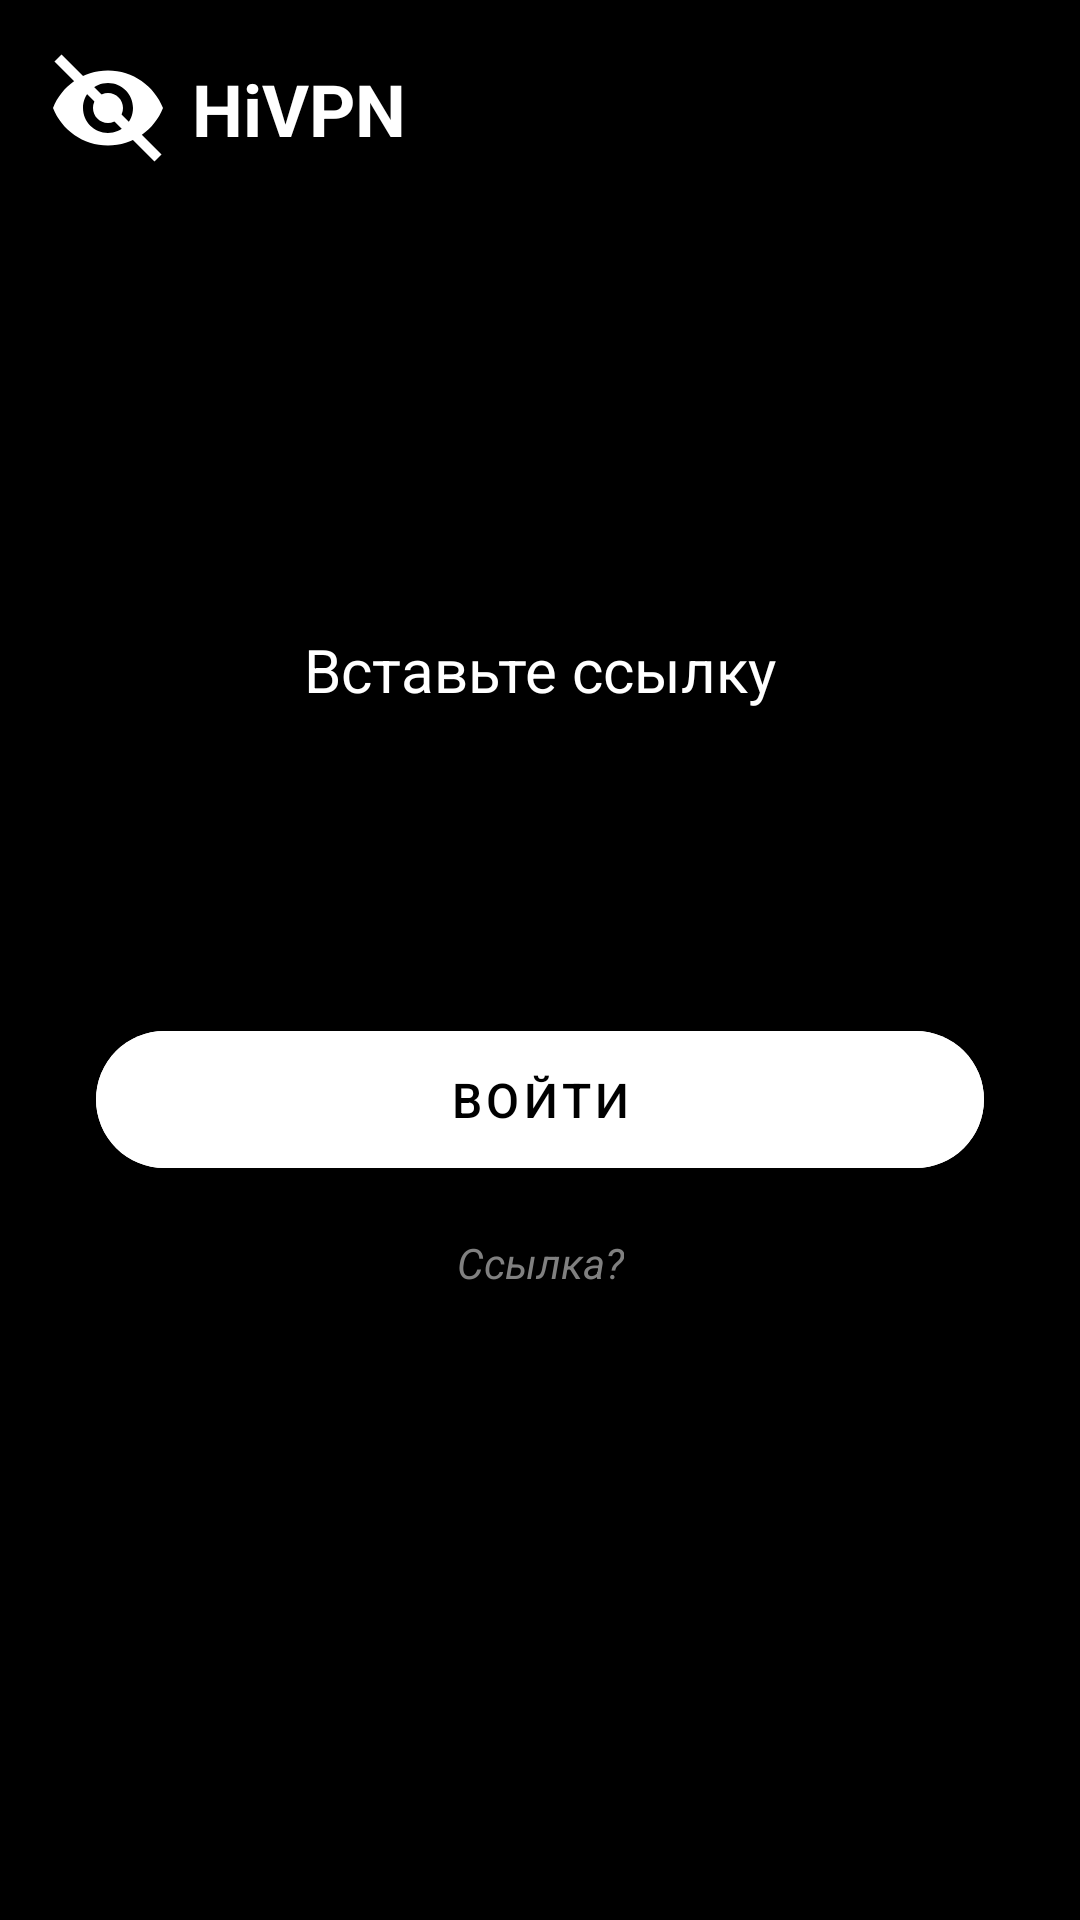

Locate icon controls on the screen. Image size 1080 × 1920, boxes as (x1, y1, x2, y2).
eye strikethrough: (53, 54, 163, 162)
